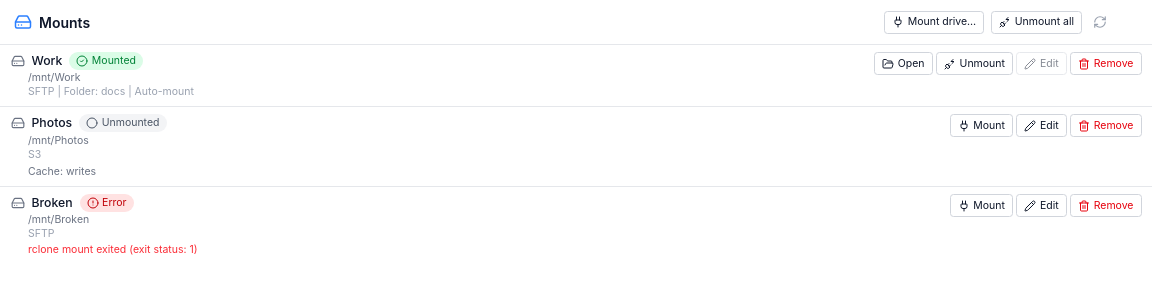
Mounts list › shows the backend's reason when unmount all fails
Expected: the text "Work" is shown, 32,52 -> 62,70
What coordinates should you click on to do the following:
click the button "Unmount all"
I would click on:
 (1037, 22)
Its box is 991,10 -> 1082,34.
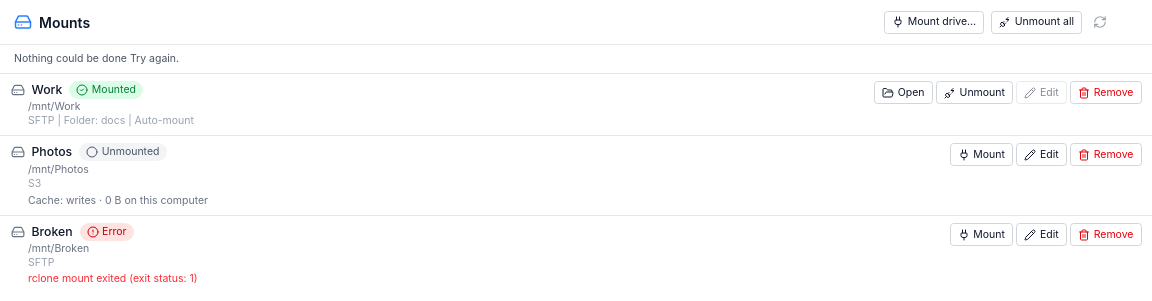
Expected: the message does not show "[object Object]", 14,52 -> 179,65
Result: the message shows "Nothing could be done" at 14,52 -> 179,65
